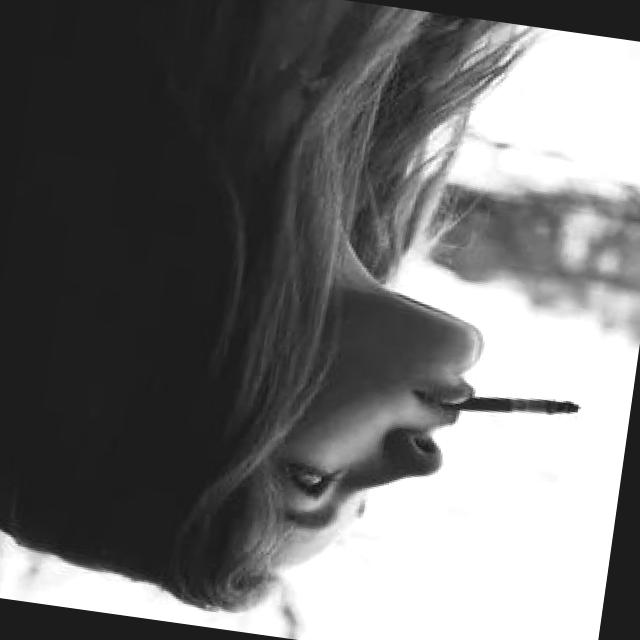smoke: (429, 370, 588, 440)
